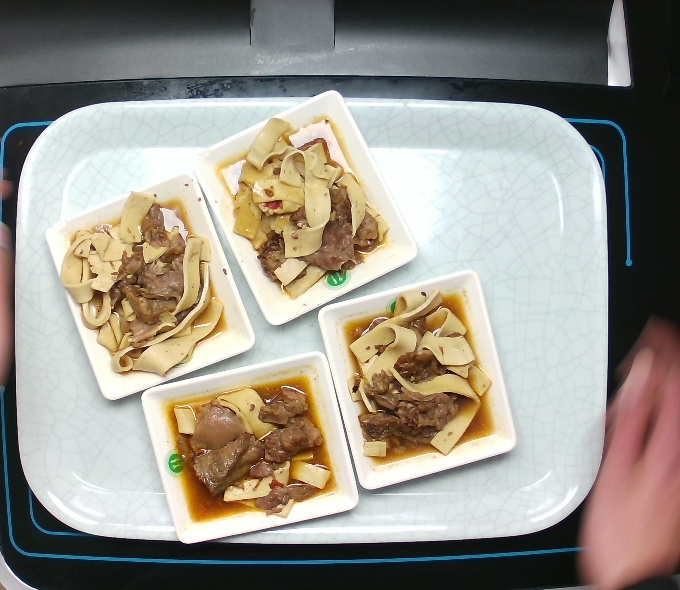wcq-QianZhangNiuNan: (220, 113, 396, 301), (62, 190, 234, 375), (341, 284, 497, 469), (161, 369, 344, 524)
